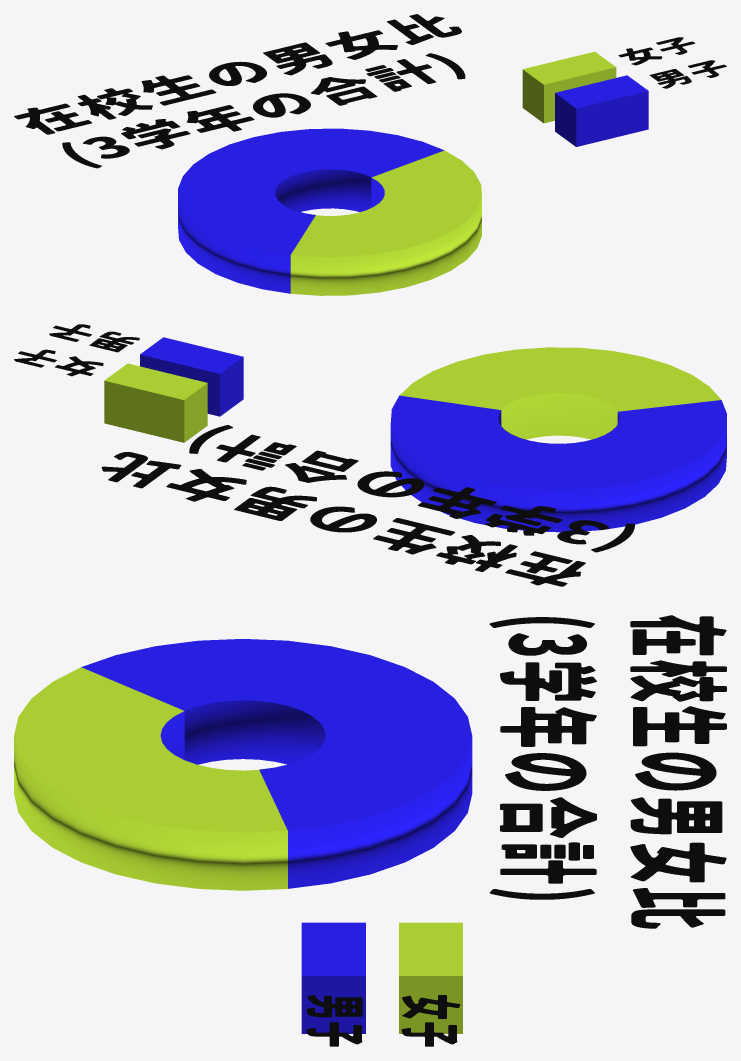
Rendered from ninnzuugurahu.glb.
The picture shows the model from 3 angles, top to bottom: view 1: azimuth 30°, elevation 25°; view 2: azimuth 150°, elevation 25°; view 3: azimuth 270°, elevation 25°; orthographic projection. The views are drawn at different scales.
Visible parts, largest first — view 1: 円柱, 円柱.001, テキスト, 立方体.001, 立方体, テキスト.001, テキスト.002; view 2: 円柱, 円柱.001, テキスト, 立方体, 立方体.001, テキスト.001, テキスト.002; view 3: 円柱, 円柱.001, テキスト, 立方体.001, 立方体, テキスト.001, テキスト.002.
Part boxes in pixels (x1,y1,x2,y2): 円柱: (178, 128, 443, 293); 円柱.001: (290, 150, 481, 295); テキスト: (14, 14, 465, 168); 立方体.001: (555, 75, 648, 146); 立方体: (522, 51, 616, 123); テキスト.001: (649, 60, 726, 88); テキスト.002: (618, 37, 695, 65); 円柱: (390, 395, 726, 532); 円柱.001: (399, 347, 721, 439); テキスト: (101, 425, 634, 586); 立方体: (104, 363, 207, 442); 立方体.001: (140, 337, 243, 416); テキスト.001: (49, 324, 139, 352); テキスト.002: (14, 349, 103, 376); 円柱: (81, 639, 472, 888); 円柱.001: (14, 667, 287, 890); テキスト: (489, 615, 726, 928); 立方体.001: (301, 922, 365, 1033); 立方体: (399, 922, 462, 1033); テキスト.001: (306, 995, 362, 1046); テキスト.002: (401, 995, 460, 1046).
Bounding box in the file's own units: 7.85 × 0.5616 × 5.48.
